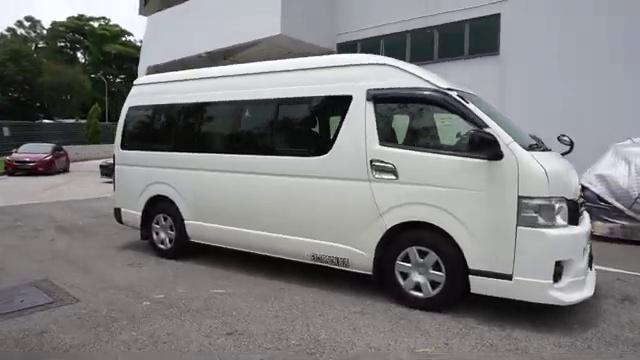Van: (111, 55, 600, 308)
